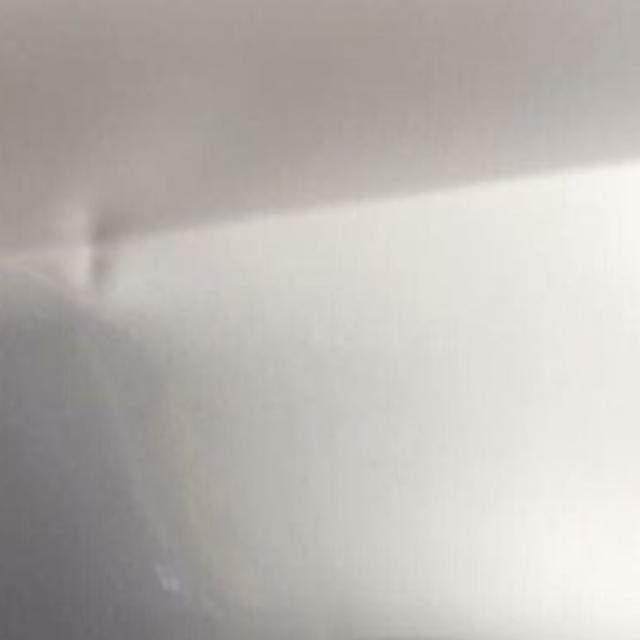dents: (61, 194, 130, 308)
